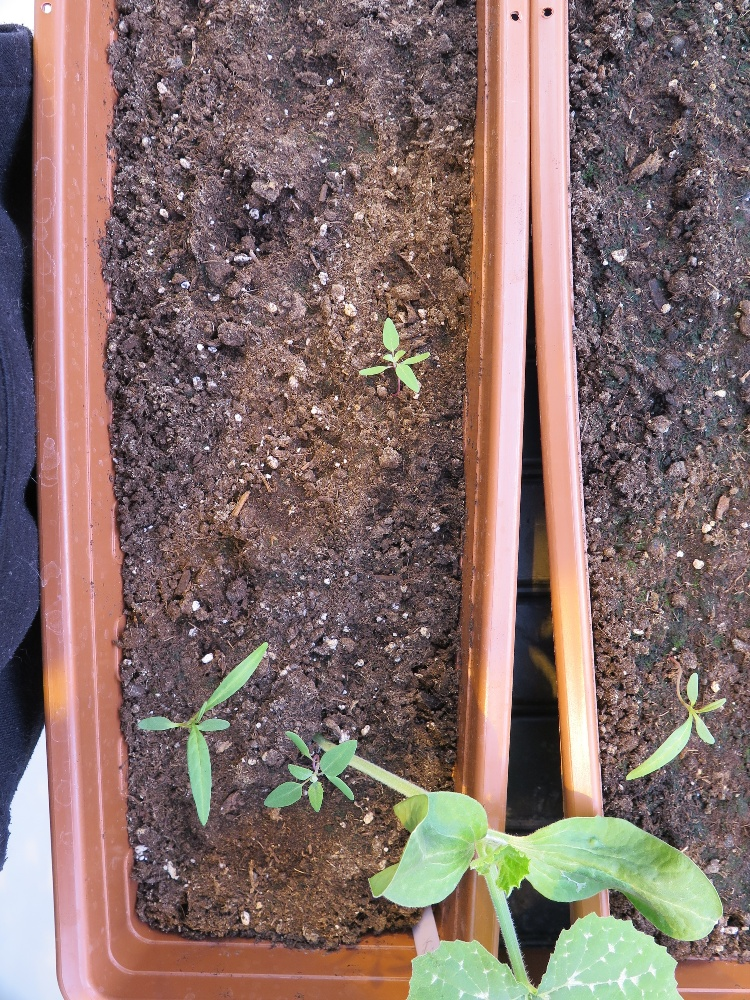crop: (313, 721, 735, 1000)
weed: (137, 643, 274, 823), (624, 668, 727, 781), (265, 736, 375, 821), (357, 315, 432, 399)
